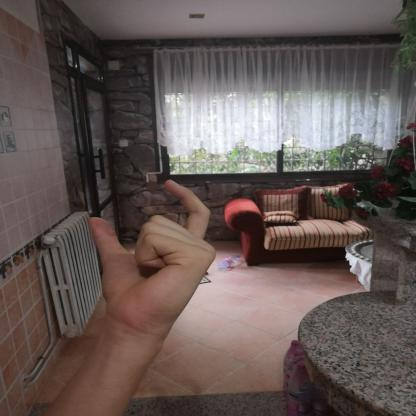NOON: (74, 170, 229, 346)
